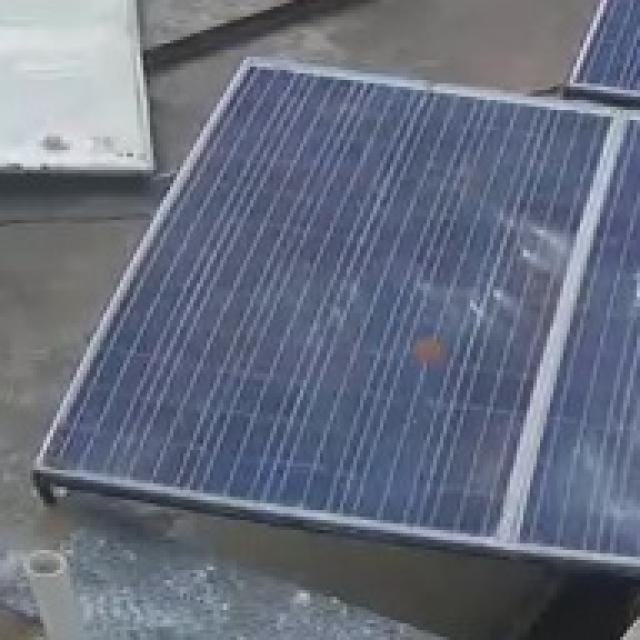Bird-drop: (455, 222, 565, 322)
Dusty: (404, 327, 449, 363)
